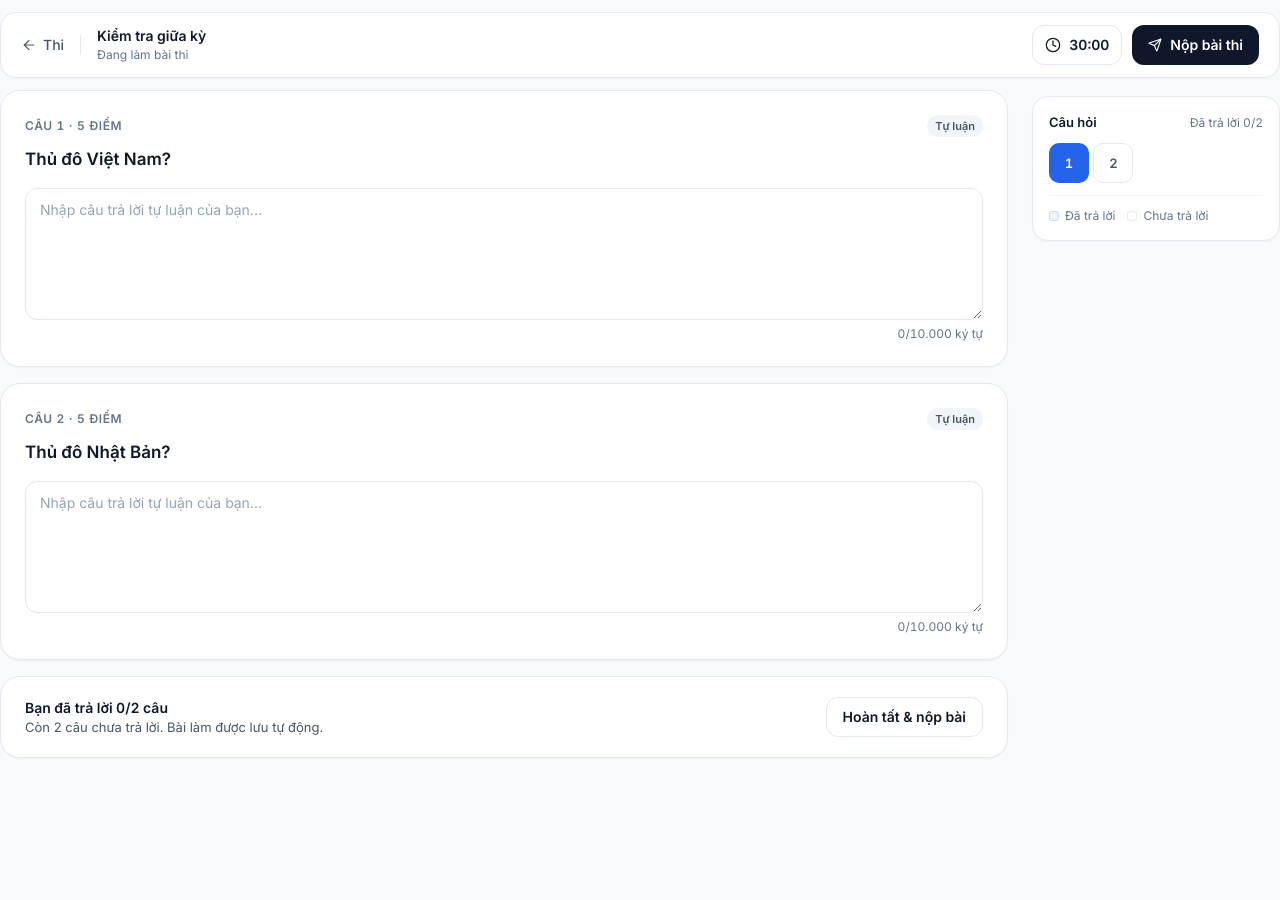
Scenario: Exam attempt autosave retry (R20-07) › retries a network failure (fetch rejects) the same way
Type "Hà Nội" into the text box with placeholder "Nhập câu trả lời tự luận của bạn..." below "Thủ đô Việt Nam?" at (504, 254), box [25, 188, 983, 320]
Wait 1500 ms
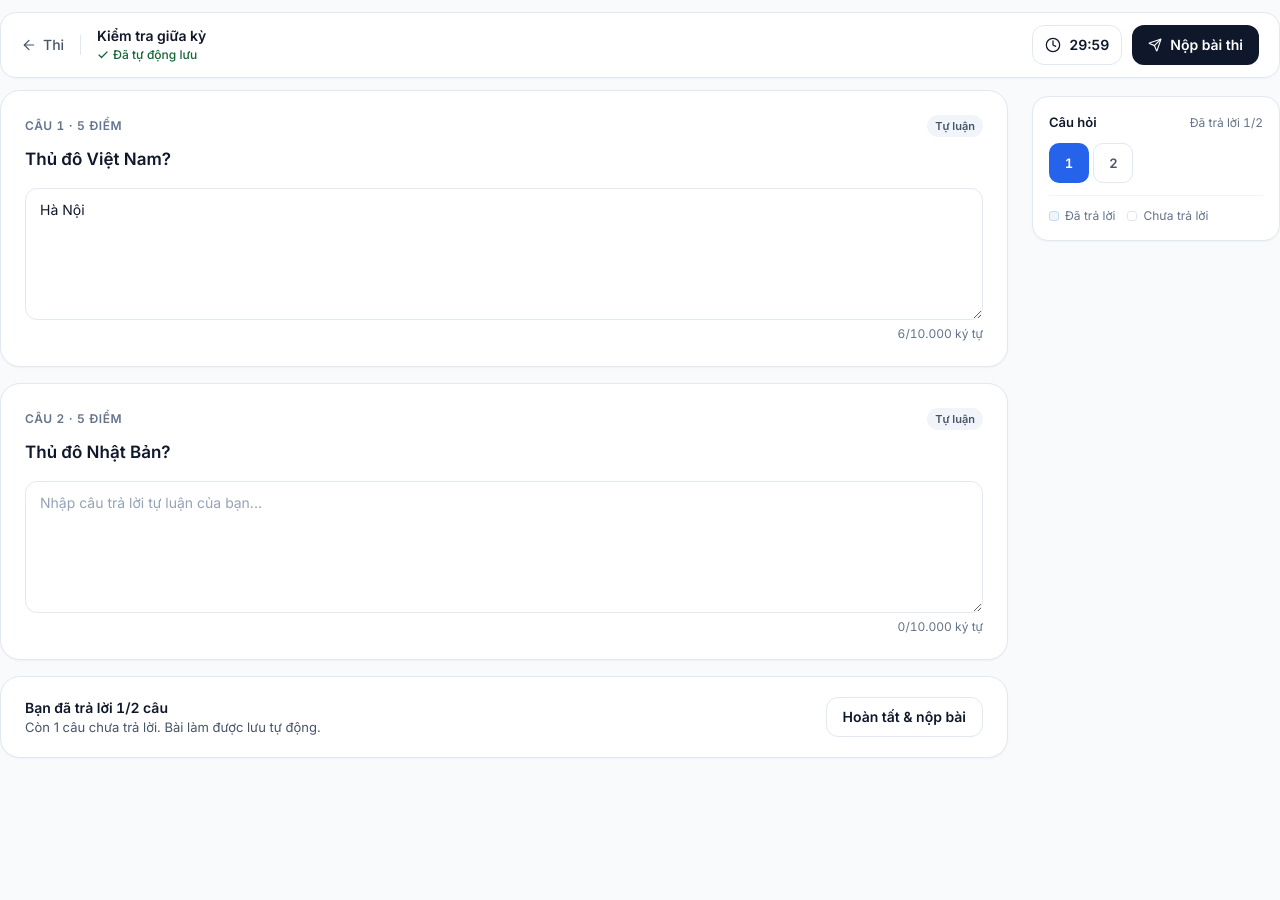
Result: the text "Đã tự động lưu" is shown at [113, 47, 197, 63]
